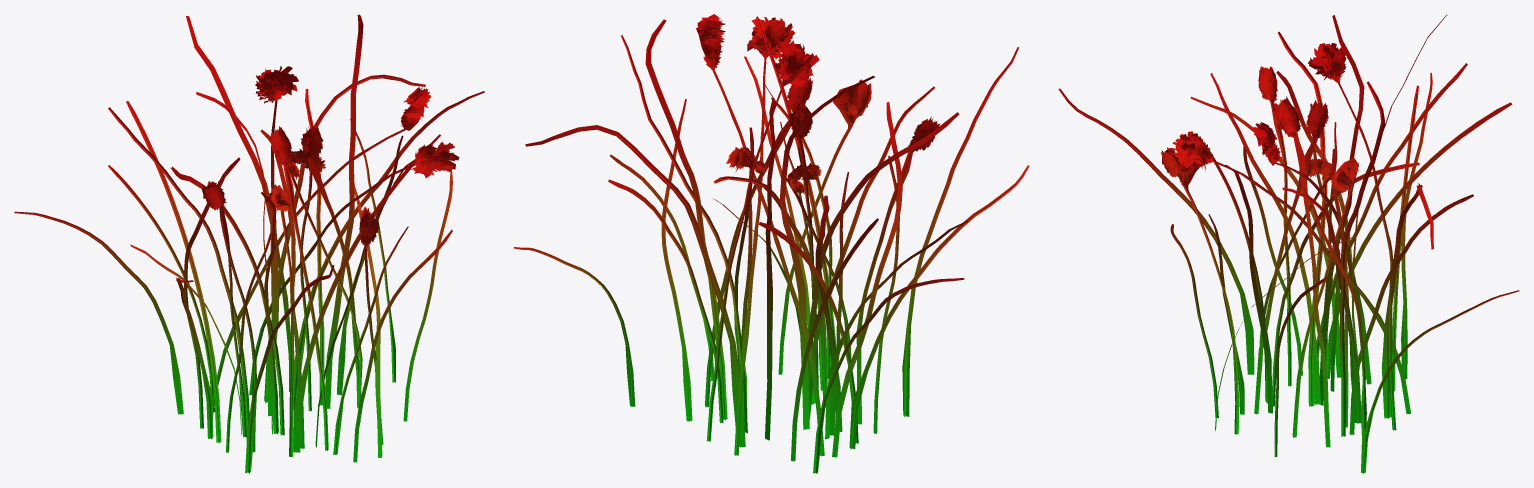
File: Cotton Grass_LOD0_Var3_wlykecdia.fbx
3 views of the same model, side by side, from view 1: azimuth 30°, elevation 25°; view 2: azimuth 150°, elevation 25°; view 3: azimuth 270°, elevation 25° (orthographic). The views are drawn at different scales.
Visible parts, largest first — view 1: _kvgs_Var3_LOD0; view 2: _kvgs_Var3_LOD0; view 3: _kvgs_Var3_LOD0.
Boxes of the visible parts, <box> form: _kvgs_Var3_LOD0: <box>14,14,484,473</box>; _kvgs_Var3_LOD0: <box>514,14,1029,473</box>; _kvgs_Var3_LOD0: <box>1058,14,1519,473</box>.
Bounding box in the file's own units: 29.52 × 25.84 × 28.46.
